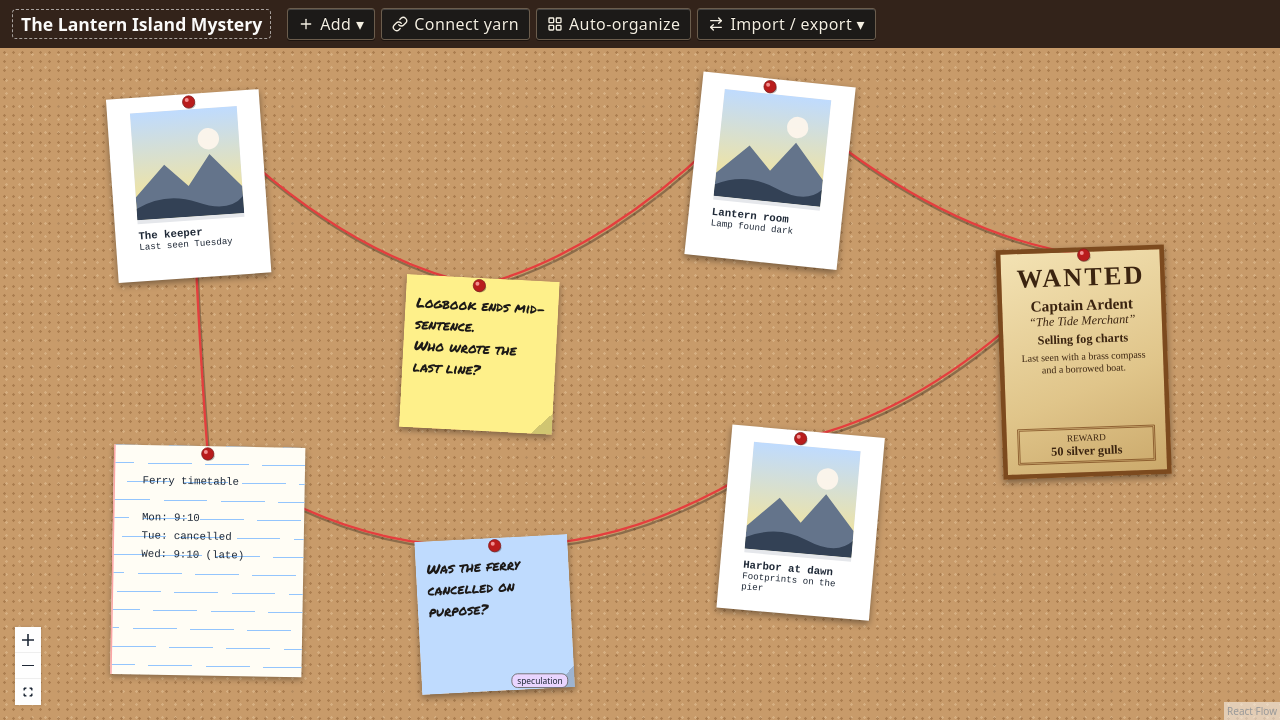
Test: widget dialog: modal behaviour › Escape closes only the dialog, leaving connect mode alone
The width and height of the screenshot is (1280, 720).
Click the element showing "Harbor at dawn Footprints on the pier".
click(801, 523)  # box [724,431,877,614]
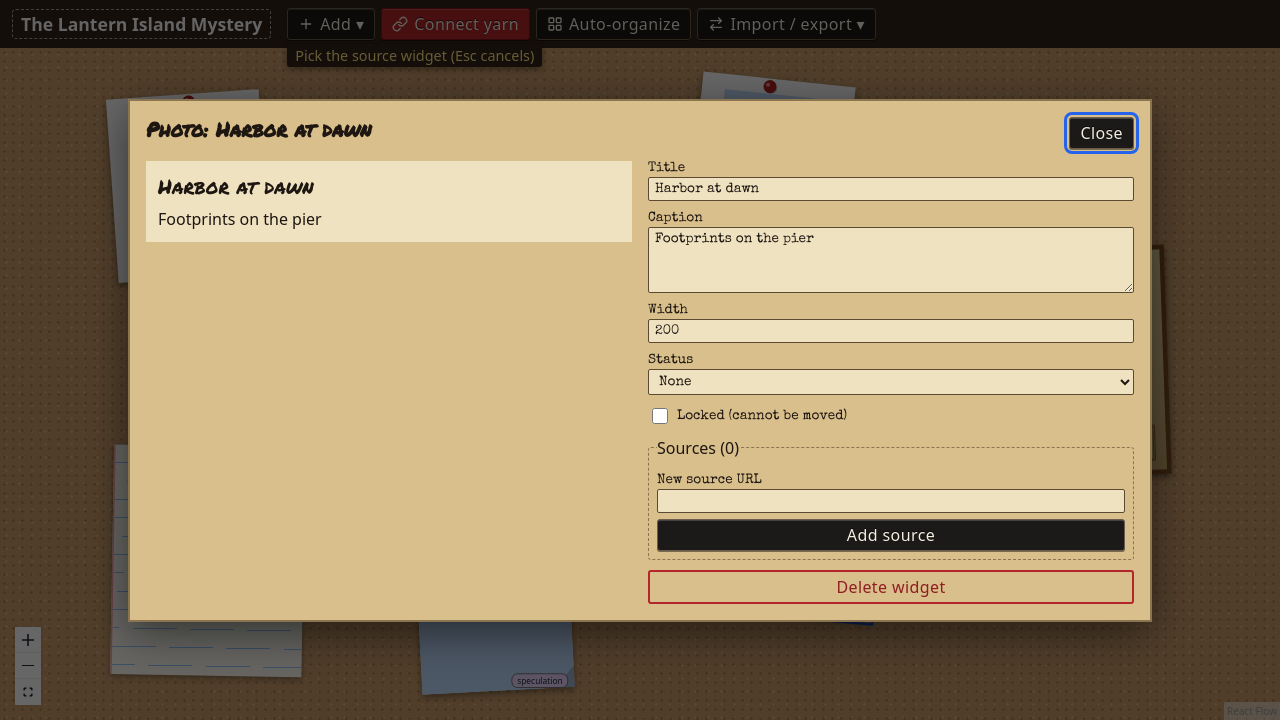
Press Escape
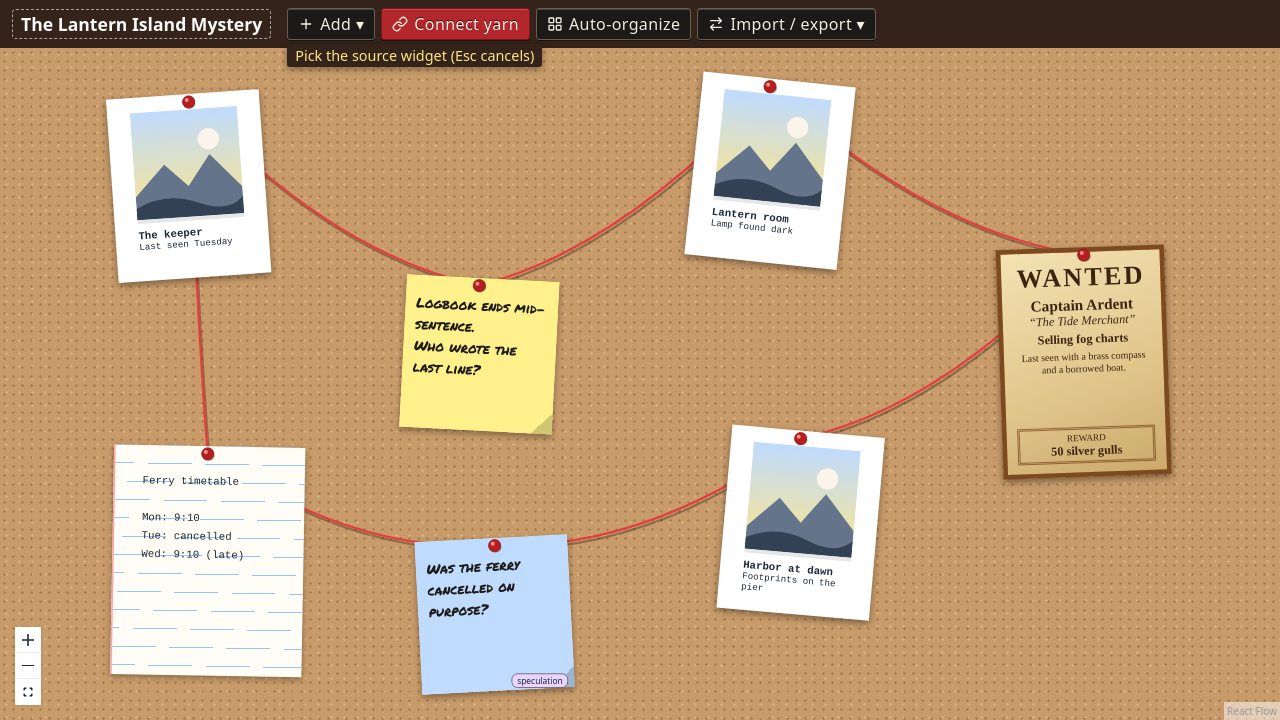
Expected: the dialog is gone
